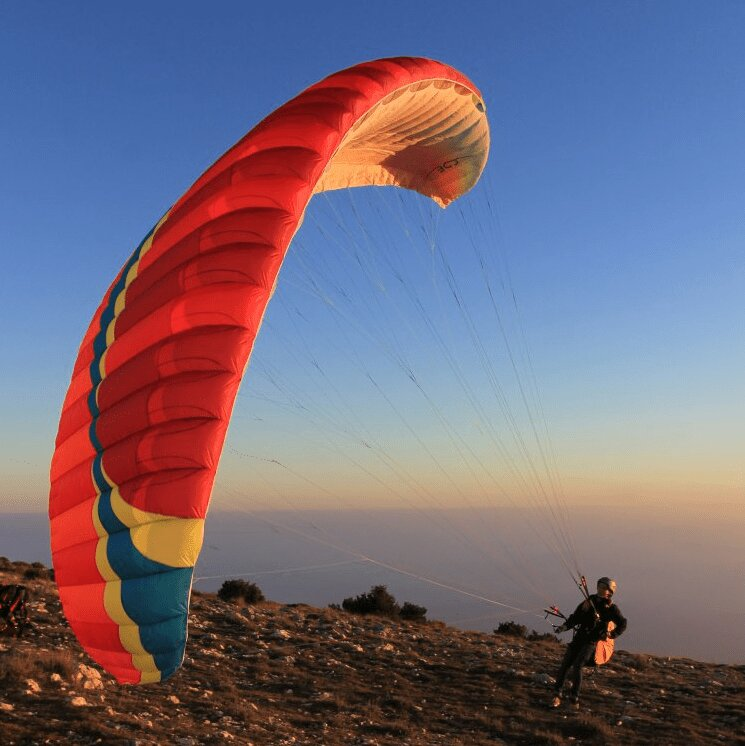Paraglider: (43, 46, 503, 695)
